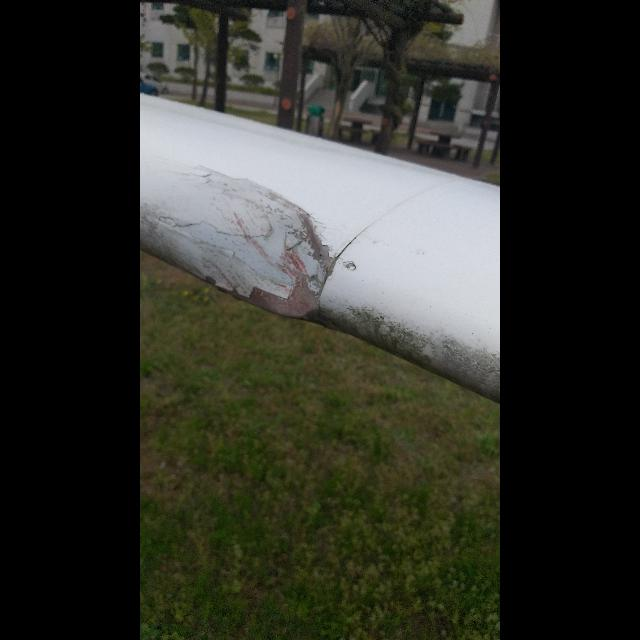dent: (196, 174, 336, 322)
